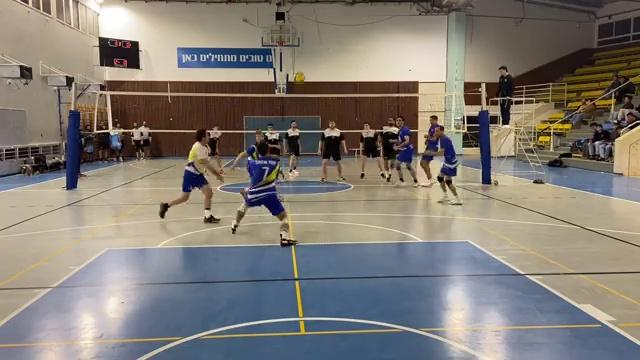ball: (292, 70, 308, 86)
